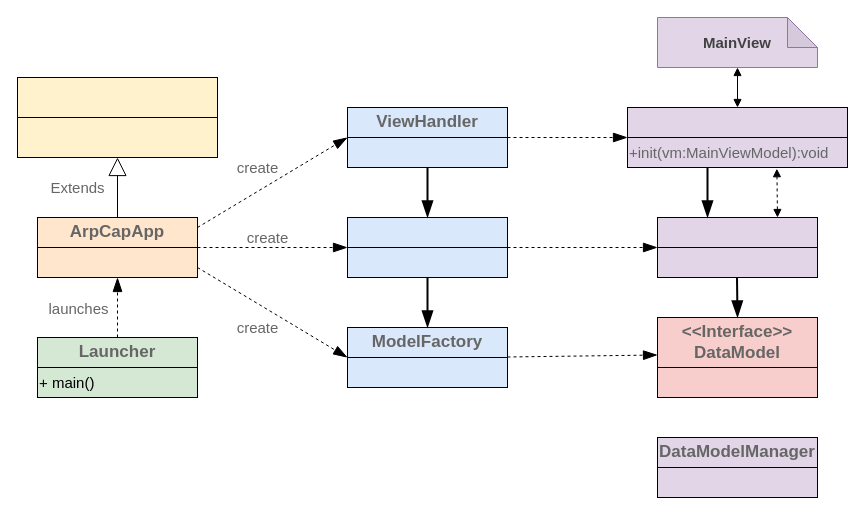
This 865x515 diagram has some shape labels left out. The centre of each missing label's shape, as x and y in pixels:
"+ start()" goes at point (117, 262).
"Javafx::Application" goes at point (117, 97).
"MainViewController" goes at point (737, 122).
"MainViewModel" goes at point (737, 232).
"VMFactory" goes at point (427, 232).
